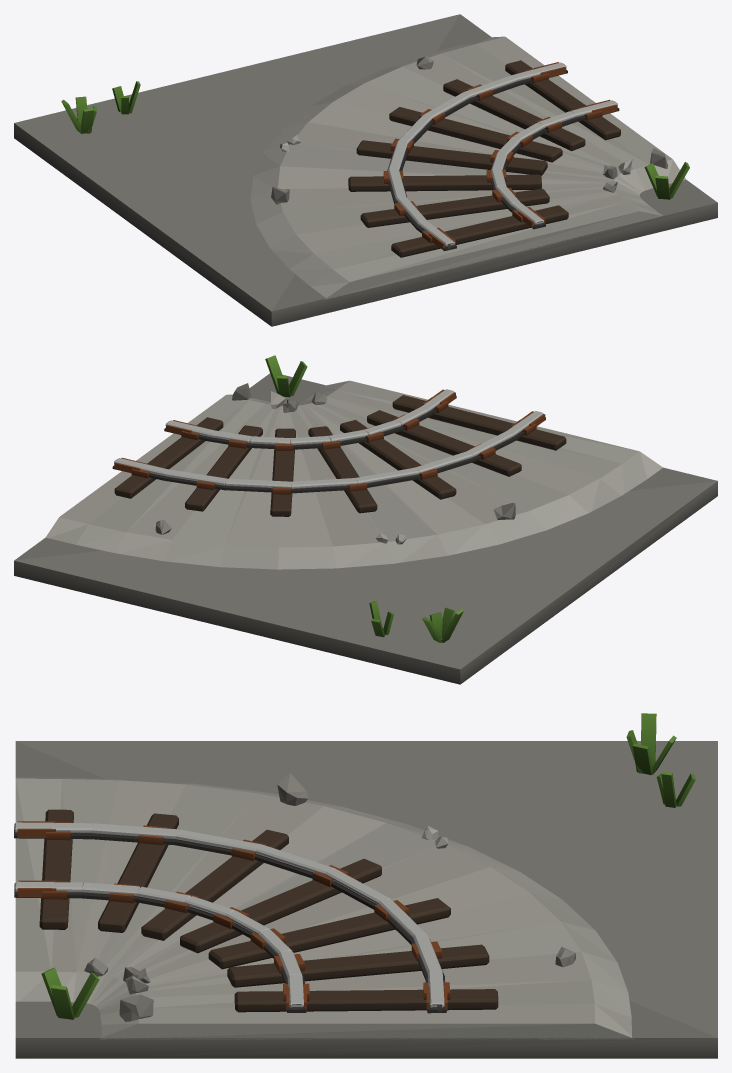
File: track-curve-wide-tile.glb
The picture shows the model from 3 angles, top to bottom: view 1: azimuth 30°, elevation 25°; view 2: azimuth 150°, elevation 25°; view 3: azimuth 270°, elevation 25°; orthographic projection. The views are drawn at different scales.
Visible parts, largest first — view 1: track_curve_wide_tile; view 2: track_curve_wide_tile; view 3: track_curve_wide_tile.
Boxes of the visible parts, x1,y1,x2,y2 form: track_curve_wide_tile: (14,14,717,326); track_curve_wide_tile: (14,355,717,684); track_curve_wide_tile: (14,713,717,1058).
Bounding box in the file's own units: 4.01 × 0.4159 × 4.01.
